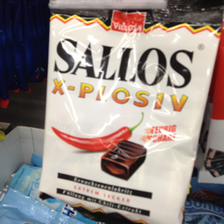candy: (47, 5, 213, 219)
